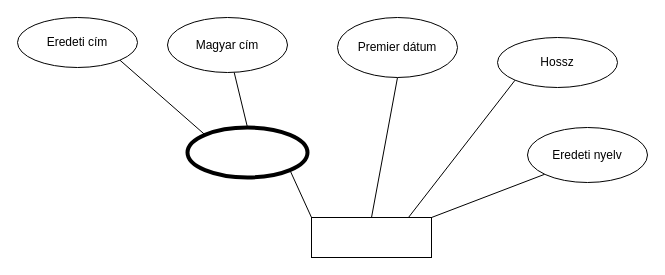
The diagram is 665 pixels wide and 275 high, and some of its shapes have lost their labels. Each missing label, with the box of its shape:
Cím: (185, 125, 309, 179)
Film: (310, 216, 432, 258)
